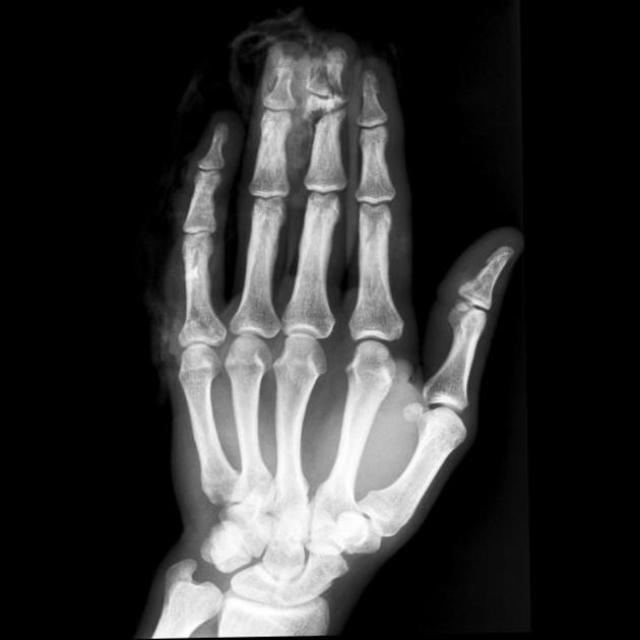Comminuted: (307, 43, 355, 123)
